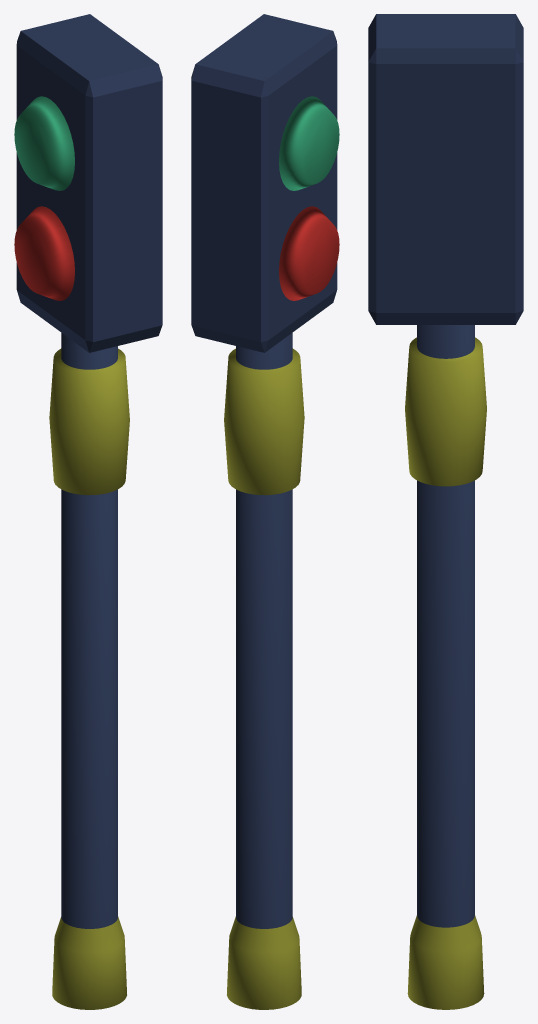
Rendered from TrafficLightModel02.fbx.
3 renders of one model, left to right at view 1: azimuth 30°, elevation 25°; view 2: azimuth 150°, elevation 25°; view 3: azimuth 270°, elevation 25°, orthographic.
Parts seen in each view (by area): view 1: TrafficLight02; view 2: TrafficLight02; view 3: TrafficLight02.
Part boxes in pixels (bbox=[...]): TrafficLight02: bbox=[14, 14, 162, 1009]; TrafficLight02: bbox=[191, 14, 339, 1009]; TrafficLight02: bbox=[368, 14, 523, 1009].
Bounding box in the file's own units: 27.77 × 263 × 38.46.
